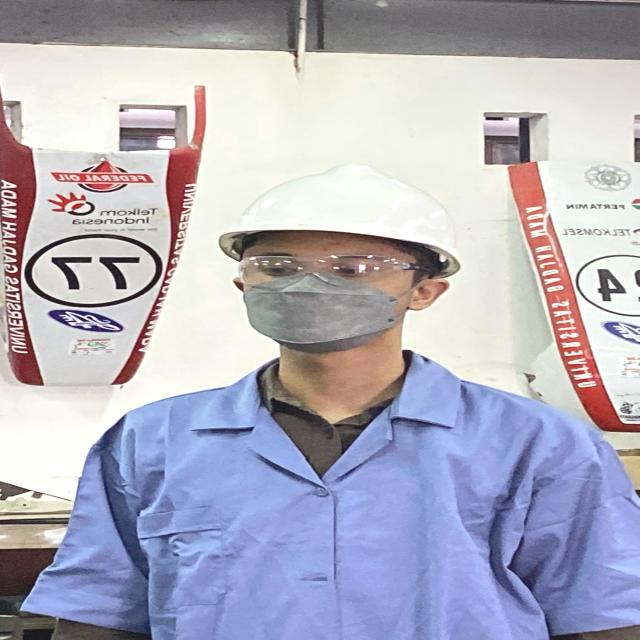face_mask: (239, 252, 419, 349)
glasses: (229, 249, 439, 289)
head_helmet: (208, 162, 468, 258)
person: (19, 161, 640, 640)
